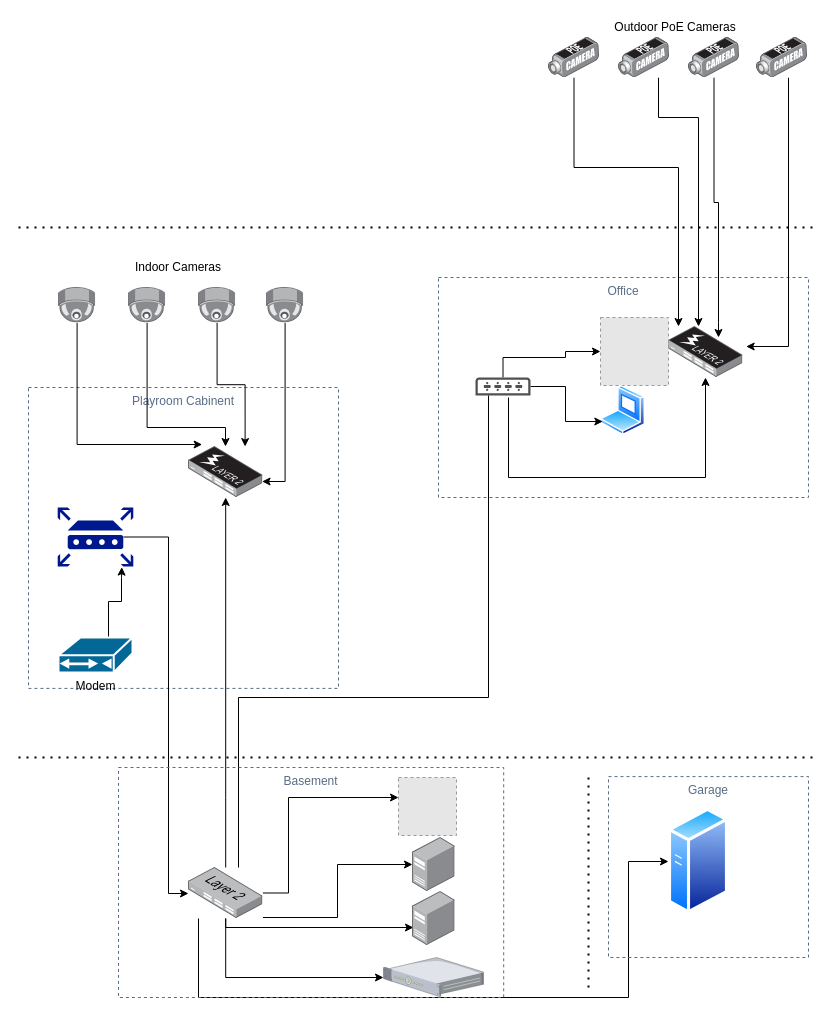
Image size: 837x1023. Some labels were removed from this diagram. Grey dashed boxes stand in for pictures. Each missing label, with the centre of its shape:
"Managed" goes at (x=225, y=892).
"Router" goes at (x=95, y=536).
"T7400" goes at (x=698, y=860).
